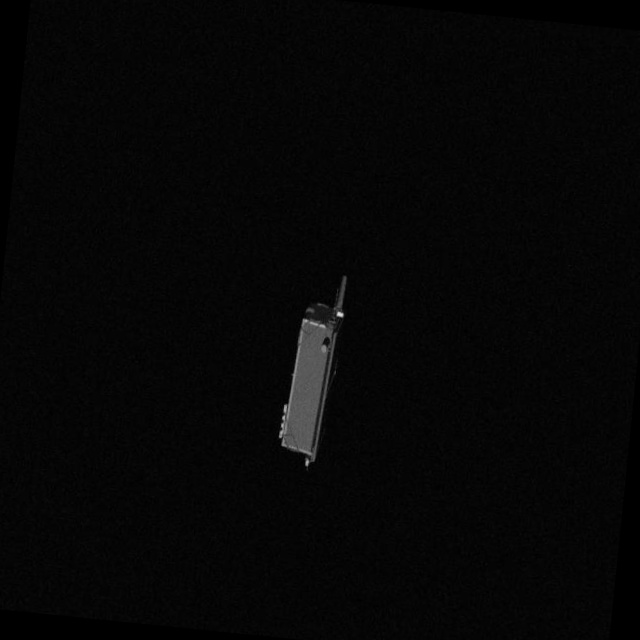satellite: (273, 257, 360, 469)
